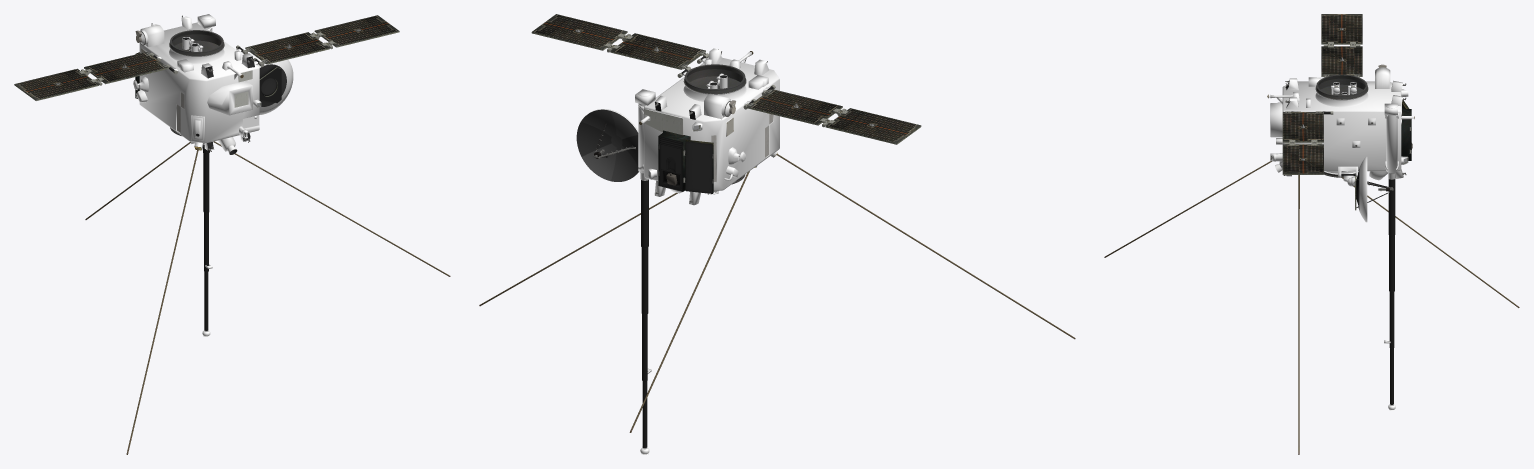
The model's file is stereo-behind.glb.
The picture shows the model from 3 angles, left to right: view 1: azimuth 30°, elevation 25°; view 2: azimuth 150°, elevation 25°; view 3: azimuth 270°, elevation 25°; orthographic projection. The views are drawn at different scales.
Parts seen in each view (by area): view 1: StereoB, shiny_panel, tex_01, tex_black, AO_dark; view 2: StereoB, tex_01, shiny_panel, AO_dish, AO_dark, tex_black; view 3: StereoB, shiny_panel, tex_01, tex_black.
Boxes of the visible parts, <box> form: StereoB: <box>133,14,293,336</box>; shiny_panel: <box>15,15,398,99</box>; tex_01: <box>14,15,450,454</box>; tex_black: <box>153,37,281,330</box>; AO_dark: <box>259,64,286,106</box>; StereoB: <box>591,48,779,454</box>; tex_01: <box>479,29,1075,432</box>; shiny_panel: <box>532,14,920,143</box>; AO_dish: <box>576,109,638,181</box>; AO_dark: <box>658,136,712,193</box>; tex_black: <box>596,56,773,448</box>; StereoB: <box>1268,67,1413,410</box>; shiny_panel: <box>1282,14,1362,173</box>; tex_01: <box>1104,28,1519,454</box>; tex_black: <box>1291,82,1410,404</box>.
Bounding box in the file's own units: 8.02 × 5.89 × 7.11.
7 materials, 4 textured.
